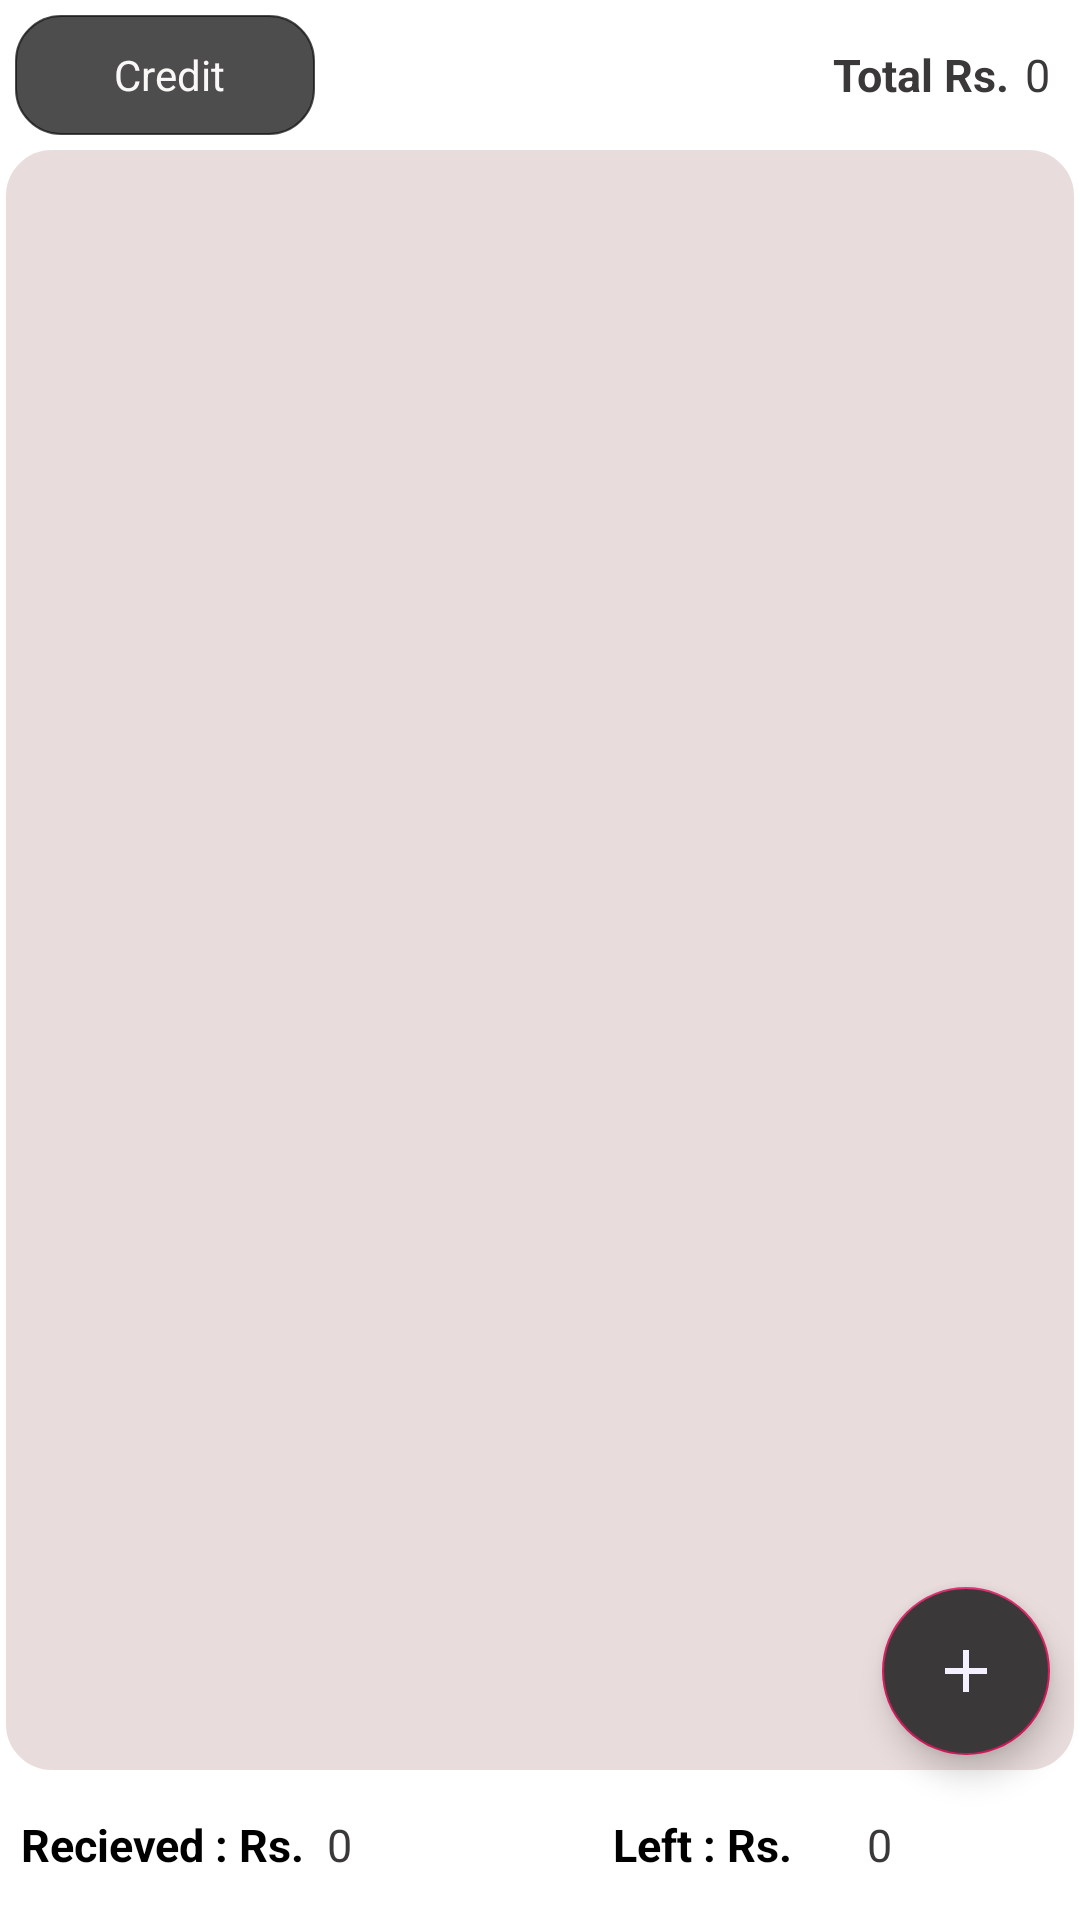

Icon bounding boxes for this 1080w x 1920h phone screenshot, format (x1, y1, x2, y2):
add: (882, 1587, 1050, 1755)
